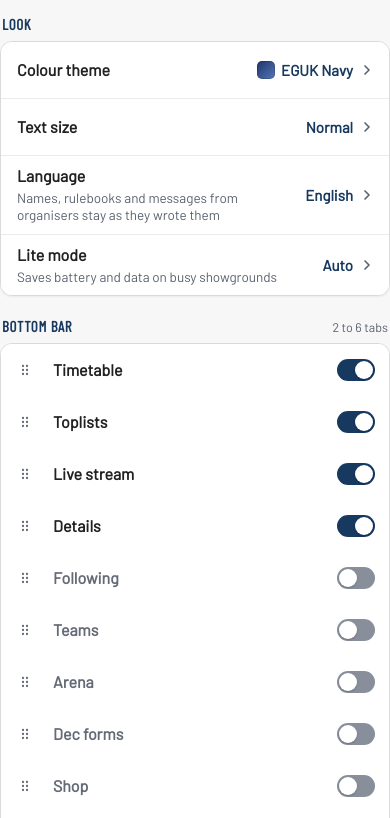
Test: SettingsPage › switches the colour theme from a dropdown row that shows a swatch
The image size is (390, 818).
Expected: the element with class "sp-swatch" is shown, [257,60,275,78]
Click the dropdown labelled "Colour theme EGUK Navy" at (63,69), box [1,42,389,98]
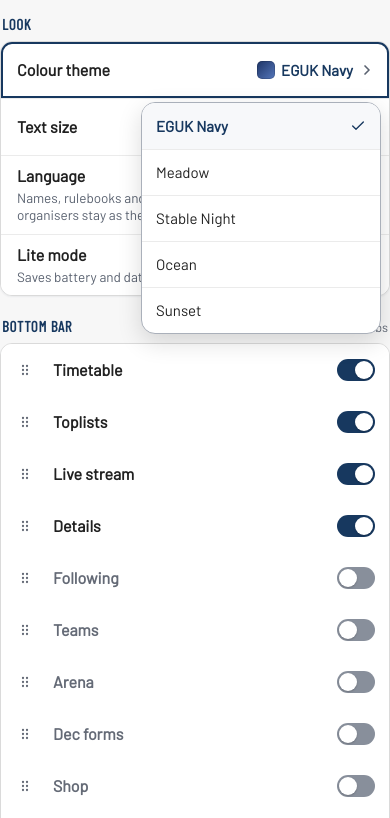
Click the option "Stable Night" at (261,218), box [142,194,380,240]
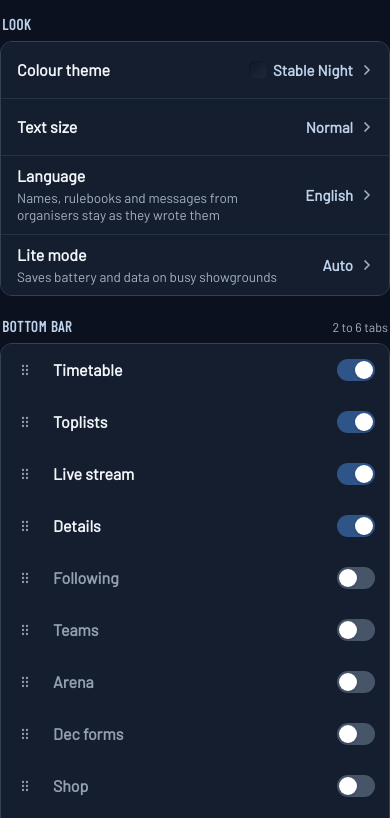
Expected: the dropdown labelled "Colour theme Stable Night" is shown, [1,42,389,98]
